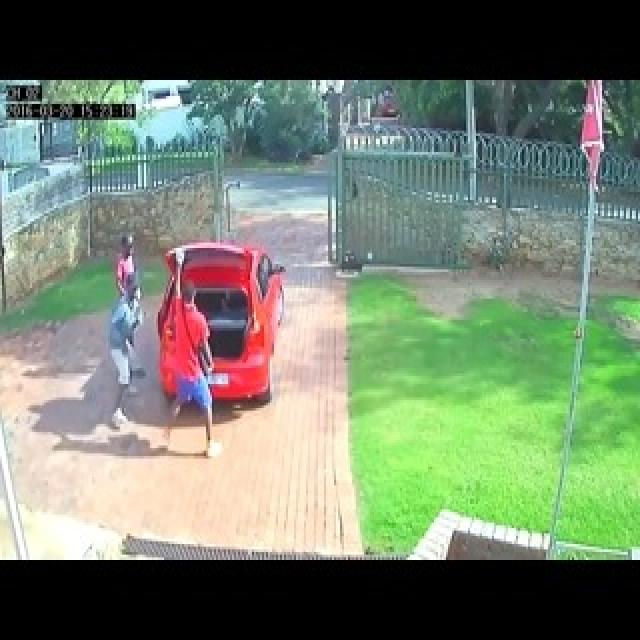thief: (100, 226, 156, 370), (171, 268, 210, 381)
